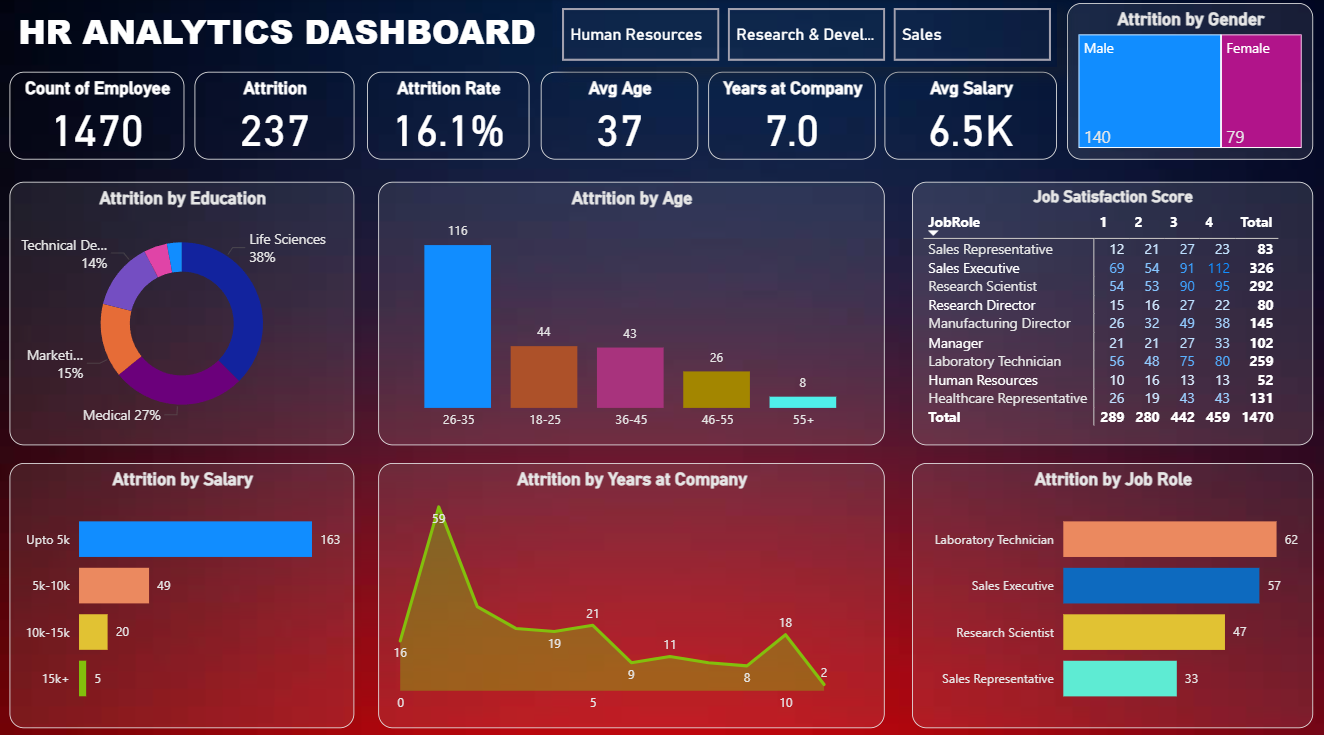

The dashboard page shown, as its layout file describes it:
{"tool":"powerbi","page":{"name":"Page 1","canvas":[1280,720],"ordinal":0},"visuals":[{"type":"card","title":"Count of Employee","fields":{"Values":["CountNonNull(HR_Analytics.EmpID)"]},"box":[12.1,71.2,168.9,84.5],"z":0},{"type":"card","title":"Attrition","fields":{"Values":["Sum(HR_Analytics.AttritionCount)"]},"box":[190.6,71.2,154.4,84.5],"z":1000},{"type":"card","title":"Attrition Rate","fields":{"Values":["HR_Analytics.AttritionRate"]},"box":[357.1,71.2,156.8,84.5],"z":2000},{"type":"card","title":"Avg Age","fields":{"Values":["Avg(HR_Analytics.Age)"]},"box":[524.8,71.2,152,84.5],"z":3000},{"type":"card","title":"Avg Salary","fields":{"Values":["Avg(HR_Analytics.MonthlyIncome)"]},"box":[856.6,71.2,166.5,84.5],"z":4000},{"type":"card","title":"Avg years","fields":{"Values":["Avg(HR_Analytics.YearsAtCompany)"]},"box":[686.5,71.2,161.7,84.5],"z":5000},{"type":"donutChart","title":"Attrition by Education","fields":{"Category":["HR_Analytics.EducationField"],"Y":["Sum(HR_Analytics.AttritionCount)"]},"box":[12.1,177.3,333,254.6],"z":6000},{"type":"columnChart","title":"Attrition by Age","fields":{"Category":["HR_Analytics.AgeGroup"],"Y":["Sum(HR_Analytics.AttritionCount)"]},"box":[368,177.3,488.6,254.6],"z":7000},{"type":"pivotTable","title":"Job Satisfaction Score","fields":{"Rows":["HR_Analytics.JobRole"],"Columns":["HR_Analytics.JobSatisfaction"],"Values":["CountNonNull(HR_Analytics.AttritionCount)"]},"box":[883.1,177.3,387.3,254.6],"z":8000},{"type":"clusteredBarChart","title":"Attrition by Salary","fields":{"Category":["HR_Analytics.SalarySlab"],"Y":["Sum(HR_Analytics.AttritionCount)"]},"box":[12.1,448.8,333,255.8],"z":9000},{"type":"clusteredBarChart","title":"Attrition by Job Role","fields":{"Y":["Sum(HR_Analytics.AttritionCount)"],"Category":["HR_Analytics.JobRole"]},"box":[883.1,448.8,387.3,255.8],"z":10000},{"type":"areaChart","title":"Attrition by Years at Company","fields":{"Category":["HR_Analytics.YearsAtCompany"],"Y":["Sum(HR_Analytics.AttritionCount)"]},"box":[368,448.8,488.6,255.8],"z":11000},{"type":"treemap","title":"Attrition by Gender","fields":{"Group":["HR_Analytics.Gender"],"Values":["Sum(HR_Analytics.AttritionCount)"]},"box":[1032.7,4.8,237.7,150.8],"z":12000},{"type":"advancedSlicerVisual","fields":{"Values":["HR_Analytics.Department"]},"box":[540.5,4.8,482.6,61.5],"z":13000},{"type":"textbox","box":[0,4.8,540.5,61.5],"z":14000}]}

Visuals, with their boxes in screenshot pixels (x1, y1, x2, y2), scaled from the page's 1280x720 canvas onto the 1324x735 screenshot:
"Count of Employee" card: (x1=13, y1=73, x2=187, y2=159)
"Attrition" card: (x1=197, y1=73, x2=357, y2=159)
"Attrition Rate" card: (x1=369, y1=73, x2=532, y2=159)
"Avg Age" card: (x1=543, y1=73, x2=700, y2=159)
"Avg Salary" card: (x1=886, y1=73, x2=1058, y2=159)
"Avg years" card: (x1=710, y1=73, x2=877, y2=159)
"Attrition by Education" donutChart: (x1=13, y1=181, x2=357, y2=441)
"Attrition by Age" columnChart: (x1=381, y1=181, x2=886, y2=441)
"Job Satisfaction Score" pivotTable: (x1=913, y1=181, x2=1314, y2=441)
"Attrition by Salary" clusteredBarChart: (x1=13, y1=458, x2=357, y2=719)
"Attrition by Job Role" clusteredBarChart: (x1=913, y1=458, x2=1314, y2=719)
"Attrition by Years at Company" areaChart: (x1=381, y1=458, x2=886, y2=719)
"Attrition by Gender" treemap: (x1=1068, y1=5, x2=1314, y2=159)
advancedSlicerVisual - HR_Analytics.Department: (x1=559, y1=5, x2=1058, y2=68)
textbox: (x1=0, y1=5, x2=559, y2=68)
